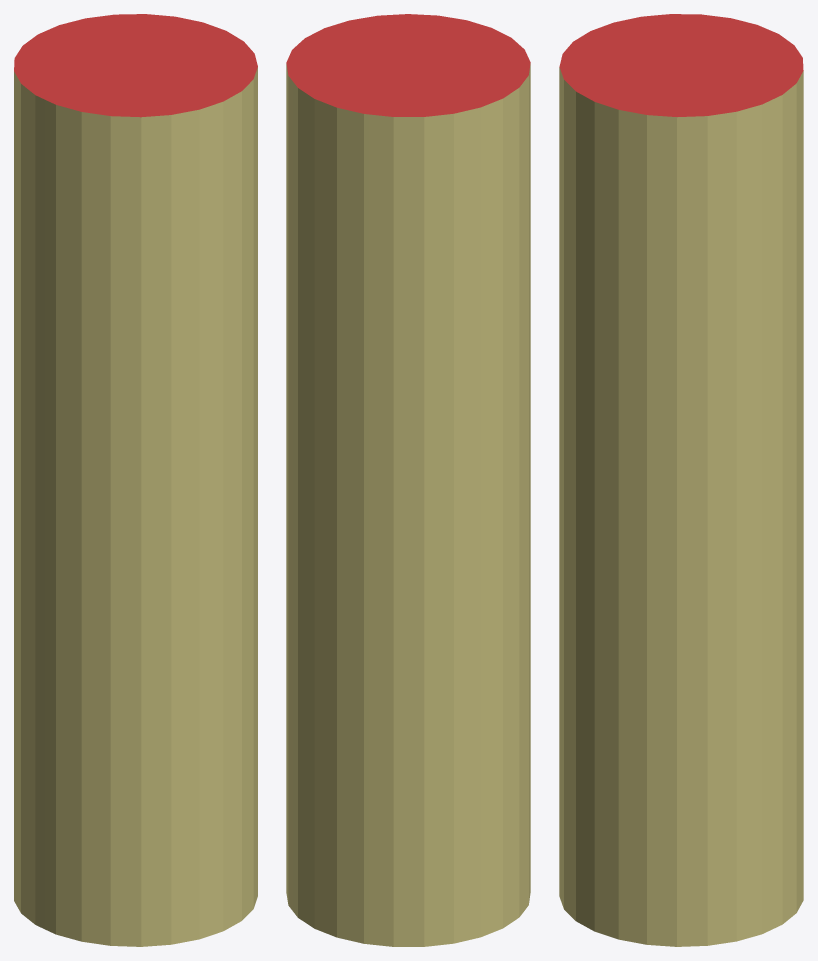
3 renders of one model, left to right at view 1: azimuth 30°, elevation 25°; view 2: azimuth 150°, elevation 25°; view 3: azimuth 270°, elevation 25°, orthographic.
Size of the model in its own units: 2.6 by 2.6 by 9.77.
